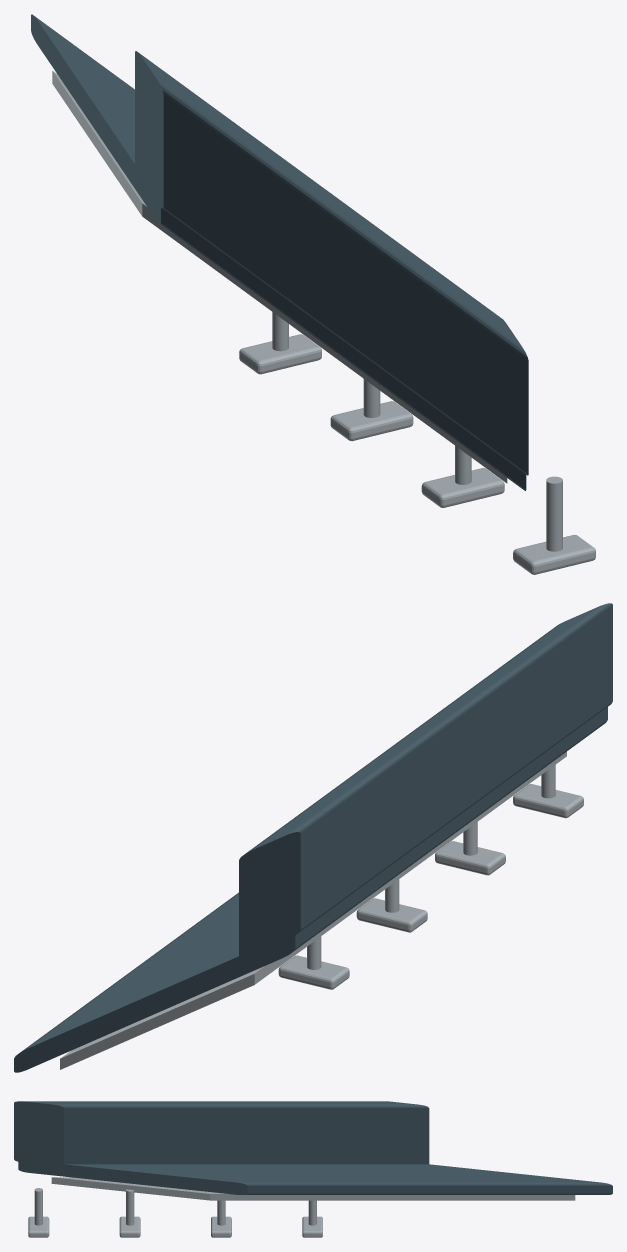
Rendered from cabin_bench_length_350cm.glb.
The picture shows the model from 3 angles, top to bottom: view 1: azimuth 30°, elevation 25°; view 2: azimuth 150°, elevation 25°; view 3: azimuth 270°, elevation 25°; orthographic projection. The views are drawn at different scales.
Parts seen in each view (by area): view 1: Bench upright back.006, Bench seat cushion.006, Bench support beam.006, Bench foot.012, Bench foot.013, Bench foot.014, Bench foot.011, Bench pedestal.011; view 2: Bench upright back.006, Bench seat cushion.006, Bench support beam.006, Bench foot.012, Bench foot.013, Bench foot.014, Bench foot.011; view 3: Bench upright back.006, Bench seat cushion.006, Bench support beam.006, Bench foot.012, Bench foot.011, Bench foot.013, Bench foot.014, Bench pedestal.011, Bench pedestal.012, Bench pedestal.013, Bench pedestal.014.
Part boxes in pixels (left/top/right/bottom): Bench upright back.006: left=135, top=51, right=528, bottom=475; Bench seat cushion.006: left=31, top=14, right=526, bottom=490; Bench support beam.006: left=52, top=70, right=507, bottom=483; Bench foot.012: left=421, top=468, right=504, bottom=507; Bench foot.013: left=330, top=401, right=413, bottom=441; Bench foot.014: left=239, top=334, right=321, bottom=374; Bench foot.011: left=513, top=534, right=595, bottom=574; Bench pedestal.011: left=546, top=476, right=562, bottom=551; Bench upright back.006: left=239, top=603, right=612, bottom=957; Bench seat cushion.006: left=14, top=707, right=607, bottom=1072; Bench support beam.006: left=60, top=751, right=566, bottom=1069; Bench foot.012: left=435, top=841, right=505, bottom=875; Bench foot.013: left=356, top=898, right=427, bottom=932; Bench foot.014: left=278, top=955, right=349, bottom=989; Bench foot.011: left=513, top=784, right=583, bottom=818; Bench upright back.006: left=14, top=1101, right=429, bottom=1165; Bench seat cushion.006: left=18, top=1160, right=612, bottom=1194; Bench support beam.006: left=51, top=1177, right=575, bottom=1200; Bench foot.012: left=119, top=1216, right=140, bottom=1237; Bench foot.011: left=28, top=1216, right=49, bottom=1237; Bench foot.013: left=211, top=1216, right=231, bottom=1237; Bench foot.014: left=302, top=1216, right=322, bottom=1237; Bench pedestal.011: left=34, top=1188, right=42, bottom=1225; Bench pedestal.012: left=126, top=1189, right=134, bottom=1225; Bench pedestal.013: left=217, top=1200, right=225, bottom=1225; Bench pedestal.014: left=308, top=1200, right=316, bottom=1225.
Bounding box in the file's own units: 0.56 × 1.25 × 5.74.
